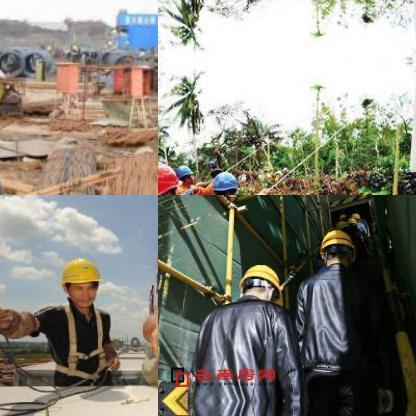Helmet: (57, 251, 105, 306), (239, 258, 283, 306), (313, 227, 355, 273), (158, 157, 179, 194), (210, 168, 239, 194), (174, 159, 193, 185), (346, 216, 358, 226)
